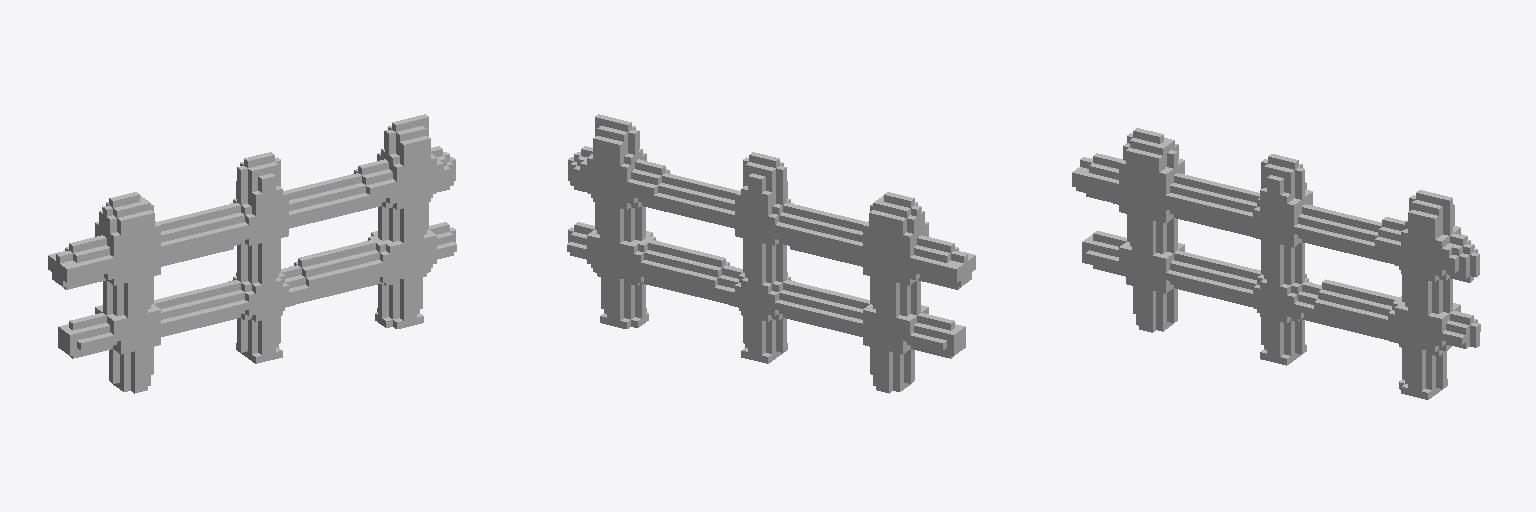
The model's file is fence.obj.
3 views of the same model, side by side, from view 1: azimuth 30°, elevation 25°; view 2: azimuth 150°, elevation 25°; view 3: azimuth 330°, elevation 25° (orthographic).
Visible parts, largest first — view 1: fence; view 2: fence; view 3: fence.
Part boxes in pixels (bbox=[...]): fence: bbox=[48, 114, 456, 393]; fence: bbox=[567, 114, 975, 393]; fence: bbox=[1072, 128, 1480, 399].
Size of the model in its own units: 59 by 28 by 5.